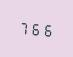seven: (18, 18, 28, 36)
six: (30, 19, 40, 37), (41, 20, 51, 38)
